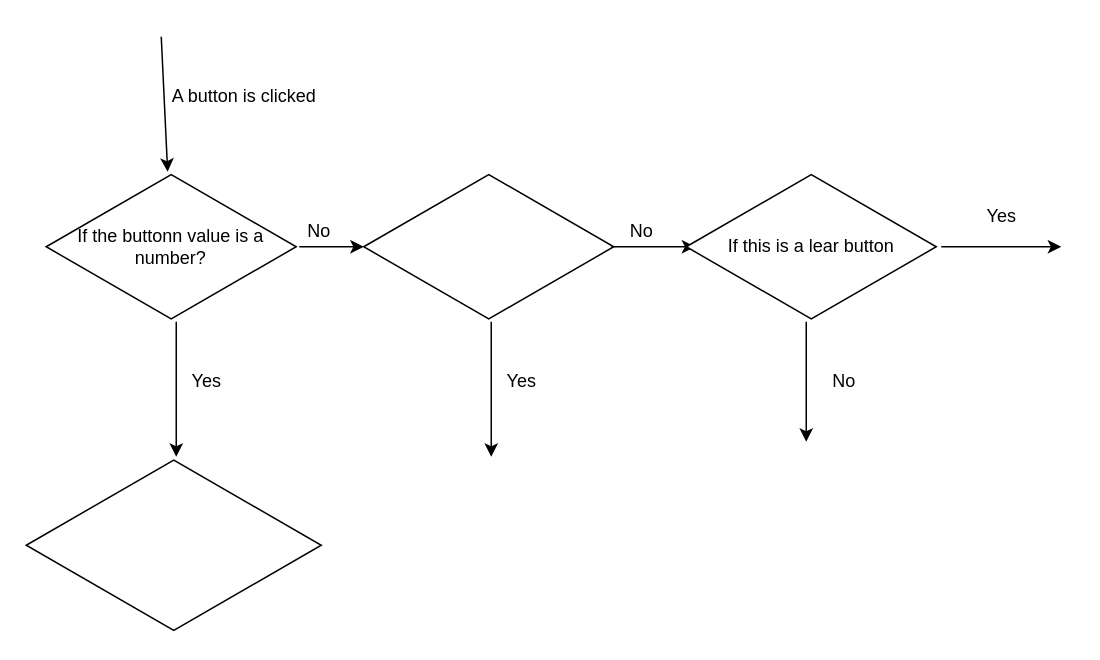
Some shapes in this 1100 by 660 pixel diagram are drawn without their labels. The shapes that lost their labels are listed below. From the top down, each one's centre as x and y in pixels, then its label:
At (488,246): "If the button value is an Operator?".
At (173,544): "If we were waiting for the second number".
